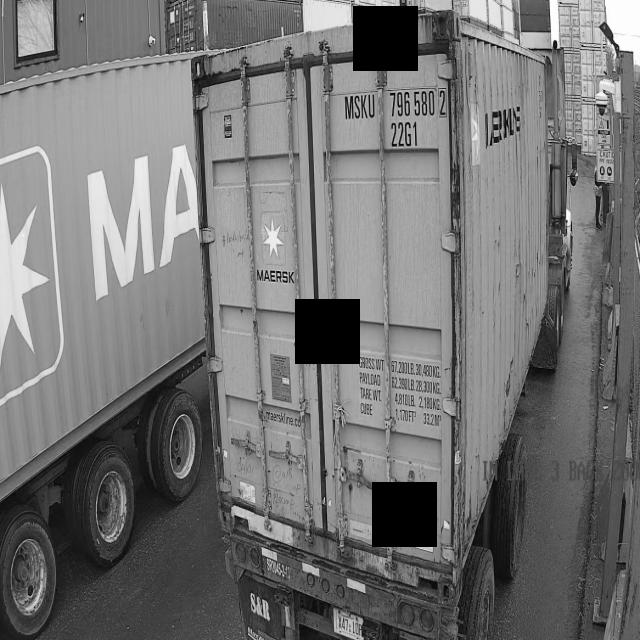container_company_logo: (255, 211, 292, 292)
container_number: (343, 91, 449, 152)
license_plate: (329, 610, 368, 640)
other_container_info: (356, 348, 442, 431)
truck_with_container: (193, 11, 577, 640), (0, 55, 205, 638)
